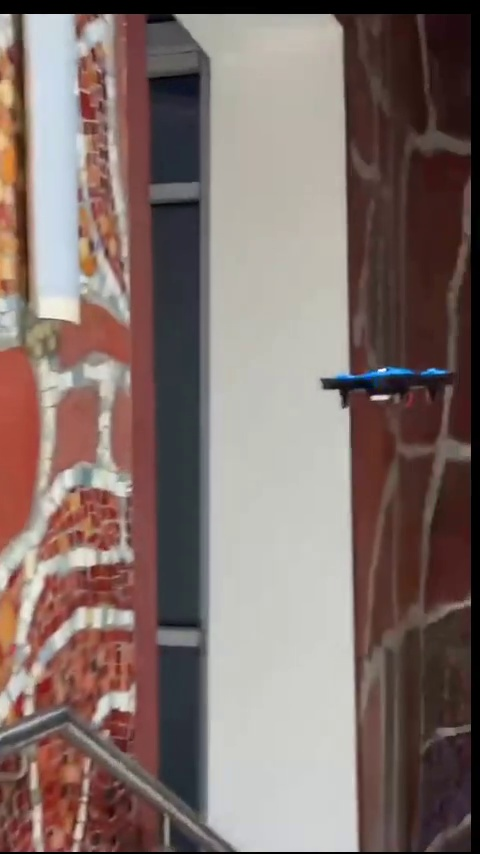drone: (318, 364, 463, 408)
